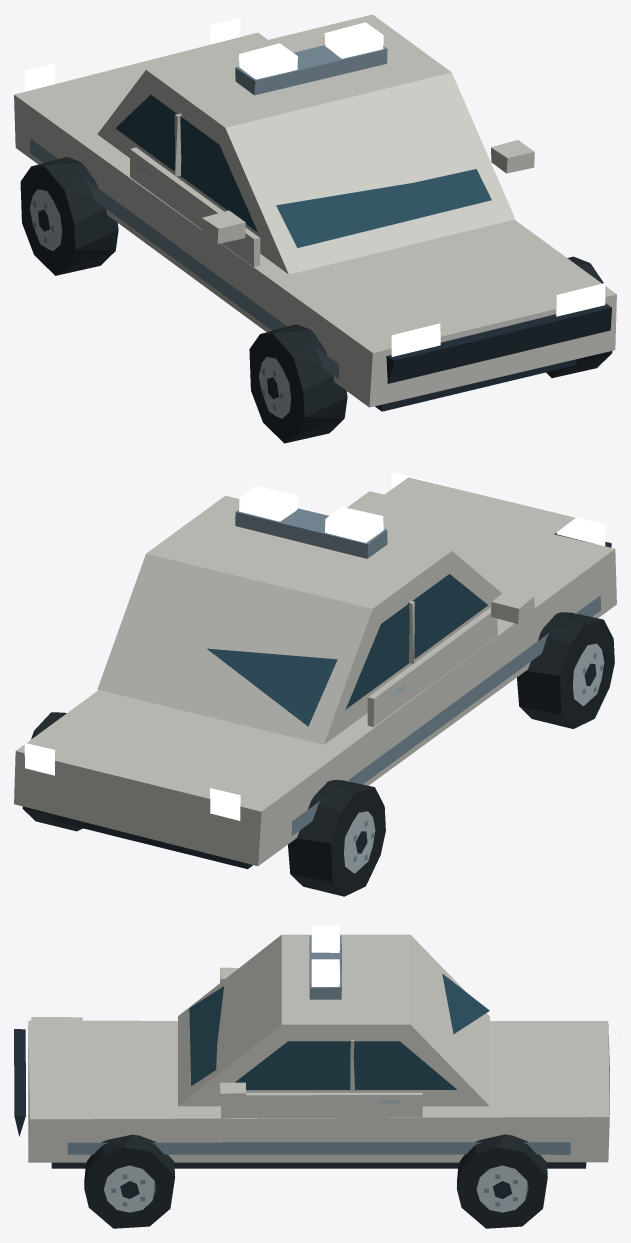
Rendered from road-police.lod2.glb.
3 renders of one model, top to bottom at view 1: azimuth 30°, elevation 25°; view 2: azimuth 150°, elevation 25°; view 3: azimuth 270°, elevation 25°, orthographic. The views are drawn at different scales.
Visible parts, largest first — view 1: road-police__body, road-police__door_-1, road-police__wheel_steer_1_l, road-police__wheel_steer_0_l, road-police__wheel_steer_0_r; view 2: road-police__body, road-police__door_-1, road-police__wheel_steer_1_l, road-police__wheel_steer_0_l, road-police__wheel_steer_1_r; view 3: road-police__body, road-police__door_1, road-police__wheel_steer_0_r, road-police__wheel_steer_1_r.
Boxes of the visible parts, <box> form: road-police__body: <box>14,14,616,411</box>; road-police__door_-1: <box>115,94,260,266</box>; road-police__wheel_steer_1_l: <box>20,157,118,275</box>; road-police__wheel_steer_0_l: <box>249,324,347,443</box>; road-police__wheel_steer_0_r: <box>546,256,612,377</box>; road-police__body: <box>14,472,616,869</box>; road-police__door_-1: <box>345,574,497,726</box>; road-police__wheel_steer_1_l: <box>288,780,385,896</box>; road-police__wheel_steer_0_l: <box>517,612,614,728</box>; road-police__wheel_steer_1_r: <box>22,712,82,831</box>; road-police__body: <box>14,925,616,1168</box>; road-police__door_1: <box>221,1040,456,1118</box>; road-police__wheel_steer_0_r: <box>84,1134,174,1228</box>; road-police__wheel_steer_1_r: <box>456,1134,547,1228</box>.
Size of the model in its own units: 2.24 by 1.79 by 4.49.
